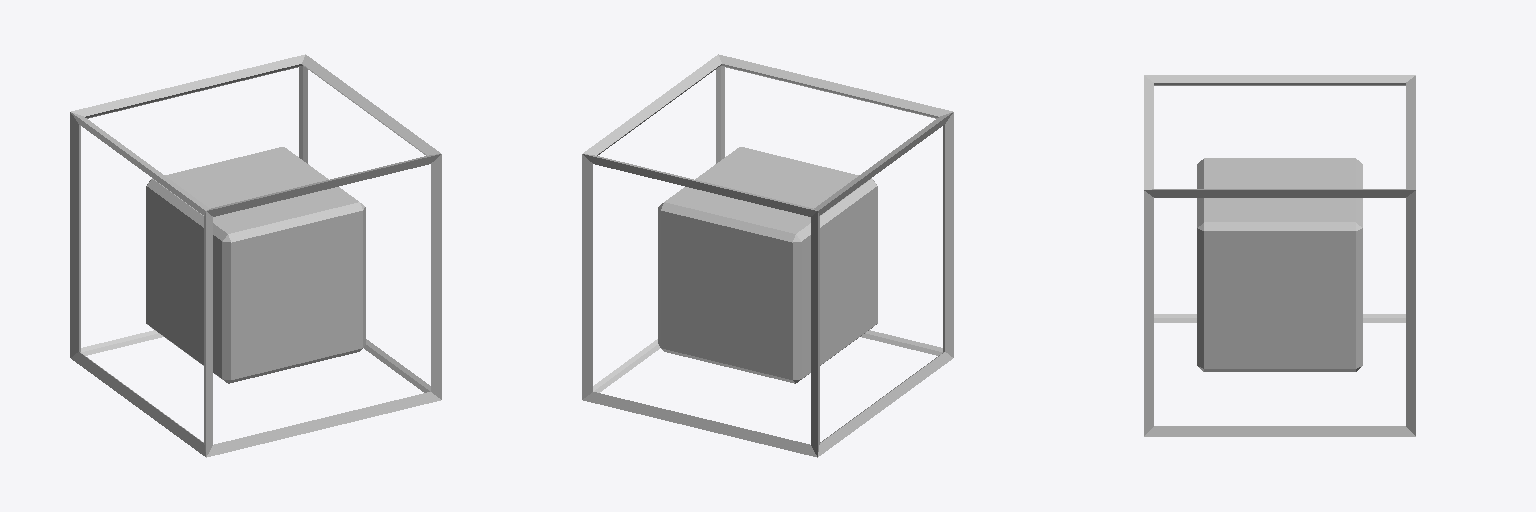
The model's file is Wuerfelform_Trigger.obj.
The picture shows the model from 3 angles: view 1: azimuth 30°, elevation 25°; view 2: azimuth 150°, elevation 25°; view 3: azimuth 270°, elevation 25°; orthographic projection.
Parts seen in each view (by area): view 1: Wuerfelform_Trigger_Cube.012; view 2: Wuerfelform_Trigger_Cube.012; view 3: Wuerfelform_Trigger_Cube.012.
Boxes of the visible parts, x1,y1,x2,y2 form: Wuerfelform_Trigger_Cube.012: [70, 54, 441, 457]; Wuerfelform_Trigger_Cube.012: [582, 54, 953, 457]; Wuerfelform_Trigger_Cube.012: [1144, 75, 1415, 436].
Bounding box in the file's own units: 1.03 × 1.03 × 1.03.